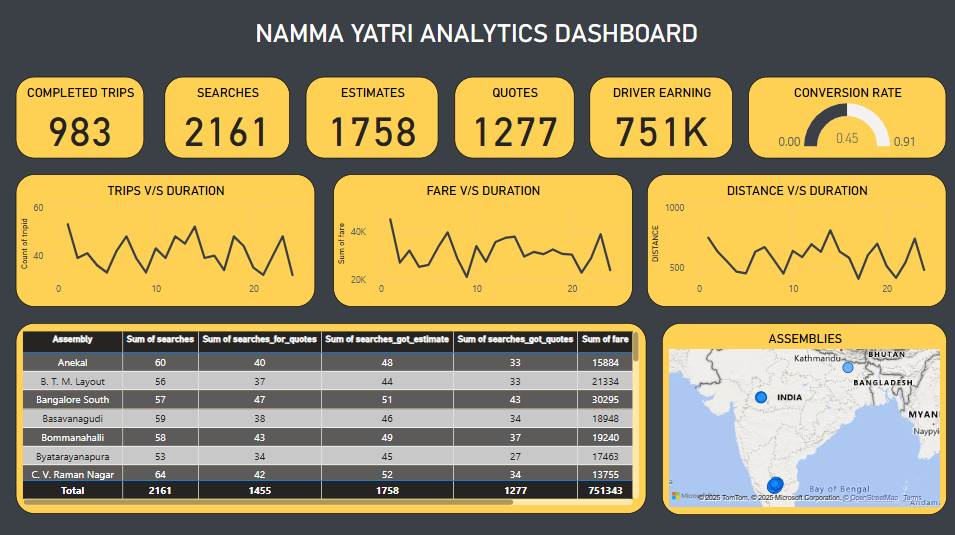

This screenshot's page, from the dashboard's own definition file:
{"tool":"powerbi","page":{"name":"Page 1","canvas":[1280,720],"ordinal":0},"visuals":[{"type":"card","title":"COMPLETED TRIPS","fields":{"Values":["CountNonNull(trips.tripid)"]},"box":[25.7,105.7,171.4,108.6],"z":0},{"type":"card","title":"SEARCHES","fields":{"Values":["Sum(trip_details.searches)"]},"box":[222.9,105.7,167.1,108.6],"z":1000},{"type":"card","title":"ESTIMATES","fields":{"Values":["Sum(trip_details.searches_got_estimate)"]},"box":[411.4,105.7,177.1,108.6],"z":2000},{"type":"card","title":"QUOTES","fields":{"Values":["Sum(trip_details.searches_got_quotes)"]},"box":[610,105.7,160,108.6],"z":3000},{"type":"card","title":"DRIVER EARNING","fields":{"Values":["Sum(trips.fare)"]},"box":[790,105.7,191.4,108.6],"z":4000},{"type":"gauge","title":"CONVERSION RATE","fields":{"Y":["trip_details.Conversion Rate"]},"box":[1001.4,105.7,264.3,108.6],"z":5000},{"type":"lineChart","title":"TRIPS V/S DURATION","fields":{"Category":["trips.duration"],"Y":["CountNonNull(trips.tripid)"]},"box":[25.6,234.9,398.8,176.7],"z":6000},{"type":"lineChart","title":"FARE V/S DURATION","fields":{"Category":["trips.duration"],"Y":["Sum(trips.fare)"]},"box":[447.7,234.9,398.8,176.7],"z":7000},{"type":"lineChart","title":"DISTANCE V/S DURATION","fields":{"Category":["trips.duration"],"Y":["Sum(trips.distance)"]},"box":[866.3,234.9,398.8,176.7],"z":8000},{"type":"tableEx","fields":{"Values":["loc.Assembly","Sum(trip_details.searches)","Sum(trip_details.searches_for_quotes)","Sum(trip_details.searches_got_estimate)","Sum(trip_details.searches_got_quotes)","Sum(trips.fare)","Sum(trips.distance)","trip_details.Conversion Rate"]},"box":[25.6,432.6,840.7,254.7],"z":9000},{"type":"map","title":"ASSEMBLIES","fields":{"Size":["CountNonNull(Merge2.tripid)"],"Category":["loc.Assembly"]},"box":[886,432.6,380.2,255.8],"z":10000},{"type":"textbox","box":[290.7,17.4,698.8,62.8],"z":10001}]}

Visuals, with their boxes in screenshot pixels (x1, y1, x2, y2), scaled from the page's 1280x720 canvas onto the 955x535 screenshot:
"COMPLETED TRIPS" card: [19, 79, 147, 159]
"SEARCHES" card: [166, 79, 291, 159]
"ESTIMATES" card: [307, 79, 439, 159]
"QUOTES" card: [455, 79, 574, 159]
"DRIVER EARNING" card: [589, 79, 732, 159]
"CONVERSION RATE" gauge: [747, 79, 944, 159]
"TRIPS V/S DURATION" lineChart: [19, 175, 317, 306]
"FARE V/S DURATION" lineChart: [334, 175, 632, 306]
"DISTANCE V/S DURATION" lineChart: [646, 175, 944, 306]
tableEx - loc.Assembly x Sum(trip_details.searches): [19, 321, 646, 511]
"ASSEMBLIES" map: [661, 321, 945, 512]
textbox: [217, 13, 738, 60]
